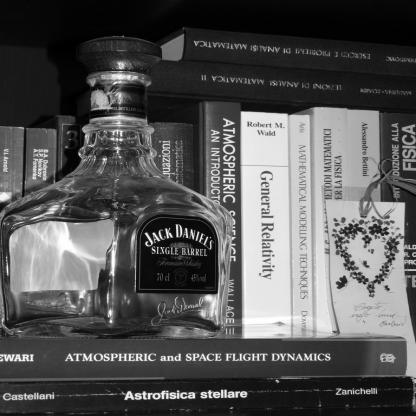book: (0, 25, 416, 416), (242, 115, 288, 330)
